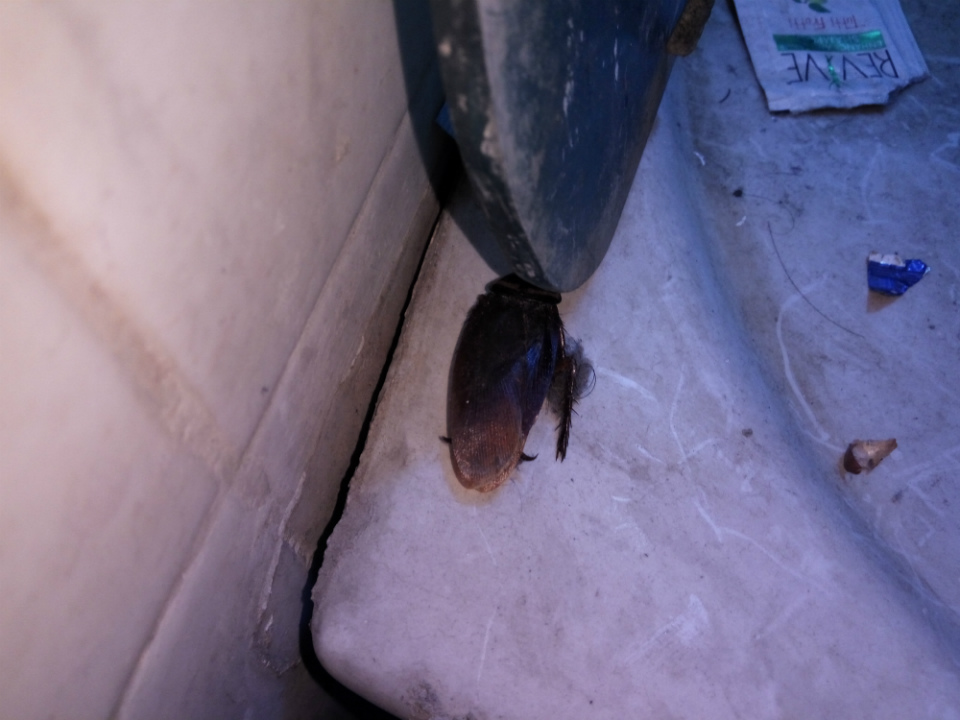cockroach: (398, 258, 608, 531)
